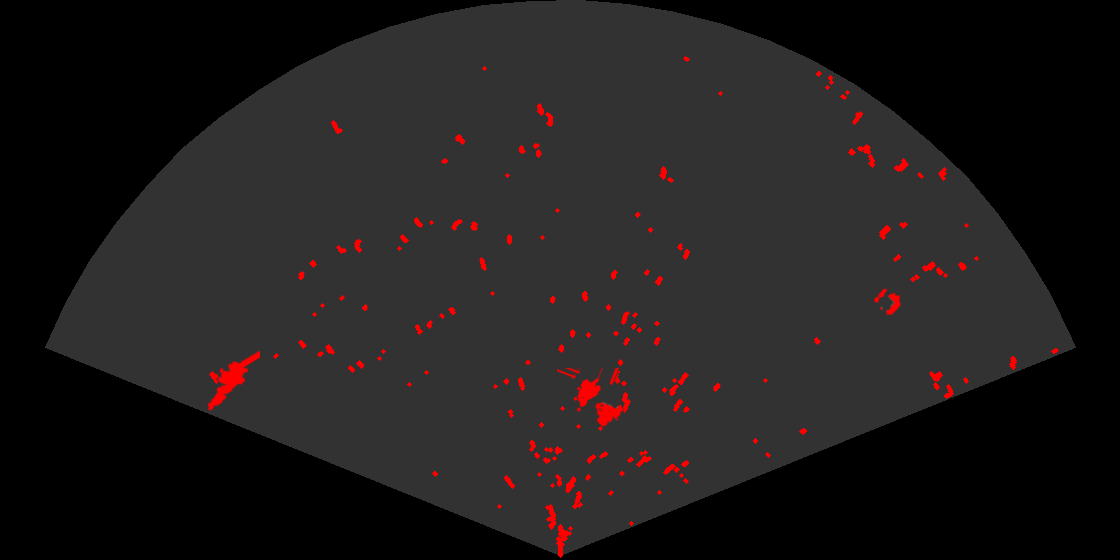ball: (872, 287, 903, 317)
cage: (557, 368, 625, 428)
frogman: (206, 351, 260, 412)
